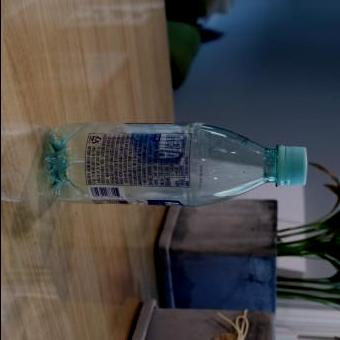bottle: (33, 125, 307, 212)
